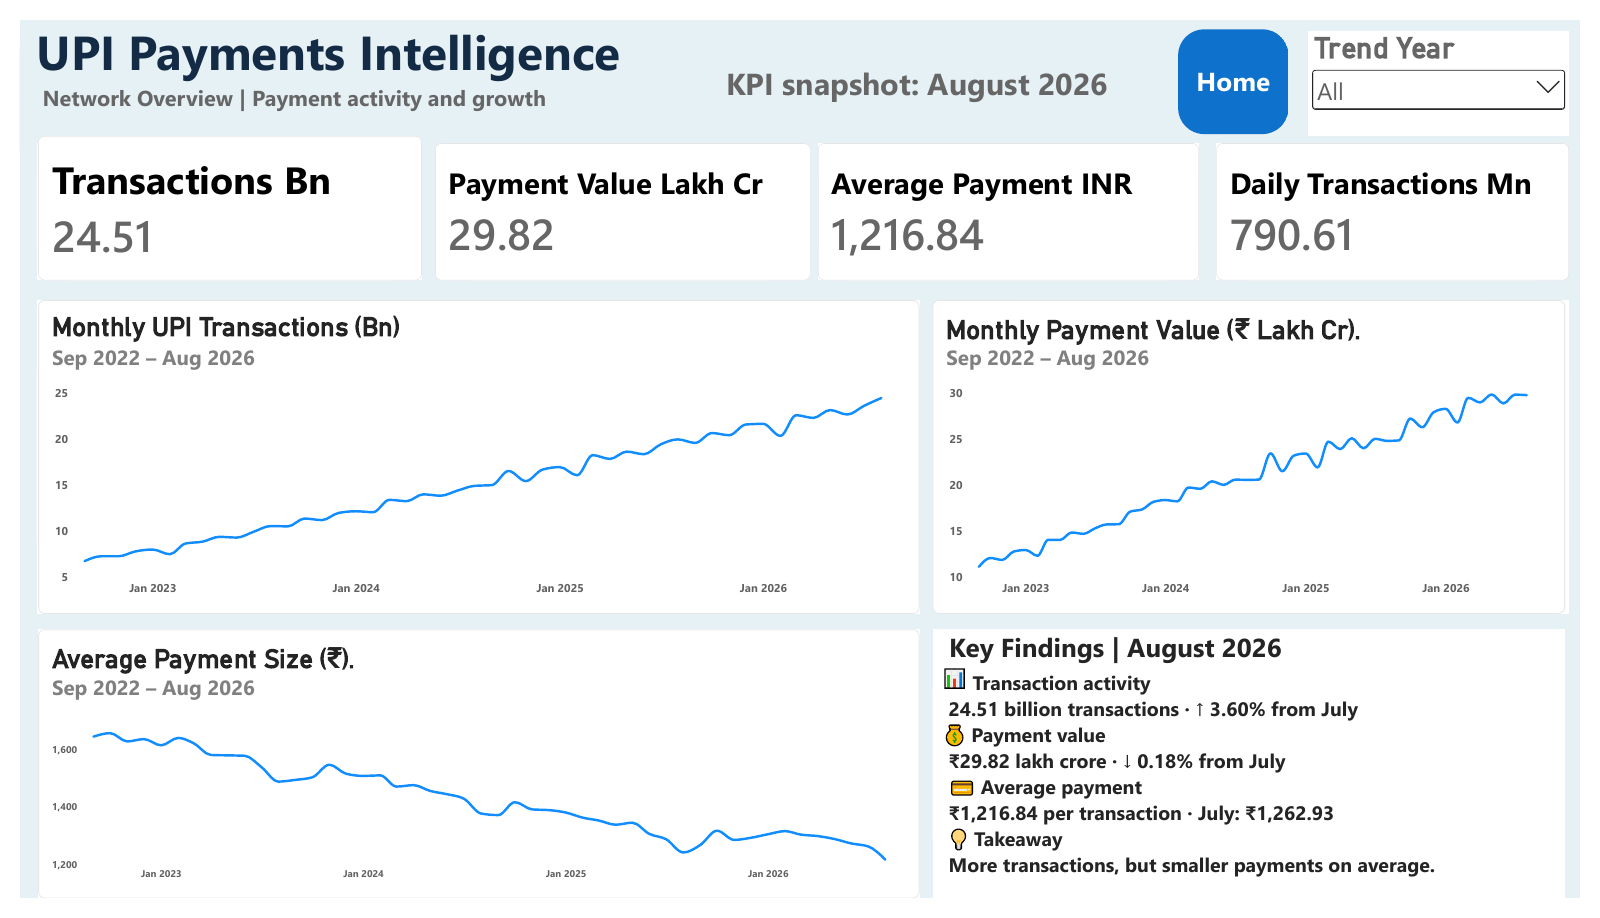

What the dashboard file says about the page in this screenshot:
{"tool":"powerbi","page":{"name":"Network overview","canvas":[1920,1080],"ordinal":1},"visuals":[{"type":"textbox","box":[21.1,0,785.4,152.4],"z":0},{"type":"shape","box":[21.1,152.4,473.6,168.8],"z":1000},{"type":"shape","box":[520.5,152.4,438.4,168.8],"z":2000},{"type":"shape","box":[982.3,152.4,468.9,168.8],"z":3000},{"type":"shape","box":[1472.3,152.4,429,168.8],"z":4000},{"type":"shape","box":[21.1,344.6,1085.5,386.8],"z":5000},{"type":"shape","box":[1127.7,344.6,778.4,386.8],"z":6000},{"type":"shape","box":[23.4,750.2,1083.2,330.6],"z":7000},{"type":"shape","box":[1123,750.2,778.4,330.6],"z":8000},{"type":"lineChart","title":"Monthly UPI Transactions (Bn)","fields":{"Category":["dim_month.month"],"Y":["fact_monthly.Transactions Bn"]},"box":[23.4,344.6,1083.2,386.8],"z":9000},{"type":"lineChart","title":"Monthly Payment Value (₹ Lakh Cr).","fields":{"Category":["dim_month.month"],"Y":["fact_monthly.Payment Value Lakh Cr"]},"box":[1123,344.6,778.4,386.8],"z":10000},{"type":"lineChart","title":"Average Payment Size (₹).","fields":{"Category":["dim_month.month"],"Y":["fact_monthly.Average Payment INR"]},"box":[23.4,750.2,1083.2,330.6],"z":11000},{"type":"textbox","box":[1123,750.2,778.4,330.6],"z":12000},{"type":"cardVisual","title":"Transactions (Bn) | Aug 2026.","fields":{"Data":["fact_monthly.Transactions Bn"]},"box":[23.4,143,471.2,178.2],"z":13000},{"type":"cardVisual","title":"Transactions (Bn) | Aug 2026.","fields":{"Data":["fact_monthly.Payment Value Lakh Cr"]},"box":[511.1,152.4,461.9,168.8],"z":14000},{"type":"cardVisual","title":"Transactions (Bn) | Aug 2026.","fields":{"Data":["fact_monthly.Average Payment INR"]},"box":[982.3,152.4,468.9,168.8],"z":15000},{"type":"cardVisual","title":"Transactions (Bn) | Aug 2026.","fields":{"Data":["fact_monthly.Daily Transactions Mn"]},"box":[1472.3,152.4,433.7,168.8],"z":16000},{"type":"textbox","box":[832.3,53.9,536.9,75],"z":17000},{"type":"slicer","fields":{"Values":["dim_month.month.Variation.Date Hierarchy.Year"]},"box":[1584.9,14.1,321.2,128.9],"z":18000},{"type":"actionButton","box":[1425.4,11.7,136,128.9],"z":18001}]}

Visuals, with their boxes in screenshot pixels (x1, y1, x2, y2), scaled from the page's 1920x1080 canvas onto the 1600x918 screenshot:
textbox: <region>18, 0, 672, 130</region>
shape: <region>18, 130, 412, 273</region>
shape: <region>434, 130, 799, 273</region>
shape: <region>819, 130, 1209, 273</region>
shape: <region>1227, 130, 1584, 273</region>
shape: <region>18, 293, 922, 622</region>
shape: <region>940, 293, 1588, 622</region>
shape: <region>20, 638, 922, 917</region>
shape: <region>936, 638, 1585, 917</region>
"Monthly UPI Transactions (Bn)" lineChart: <region>20, 293, 922, 622</region>
"Monthly Payment Value (₹ Lakh Cr)." lineChart: <region>936, 293, 1585, 622</region>
"Average Payment Size (₹)." lineChart: <region>20, 638, 922, 917</region>
textbox: <region>936, 638, 1585, 917</region>
"Transactions (Bn) | Aug 2026." cardVisual: <region>20, 122, 412, 273</region>
"Transactions (Bn) | Aug 2026." cardVisual: <region>426, 130, 811, 273</region>
"Transactions (Bn) | Aug 2026." cardVisual: <region>819, 130, 1209, 273</region>
"Transactions (Bn) | Aug 2026." cardVisual: <region>1227, 130, 1588, 273</region>
textbox: <region>694, 46, 1141, 110</region>
slicer - dim_month.month.Variation.Date Hierarchy.Year: <region>1321, 12, 1588, 122</region>
actionButton: <region>1188, 10, 1301, 120</region>
